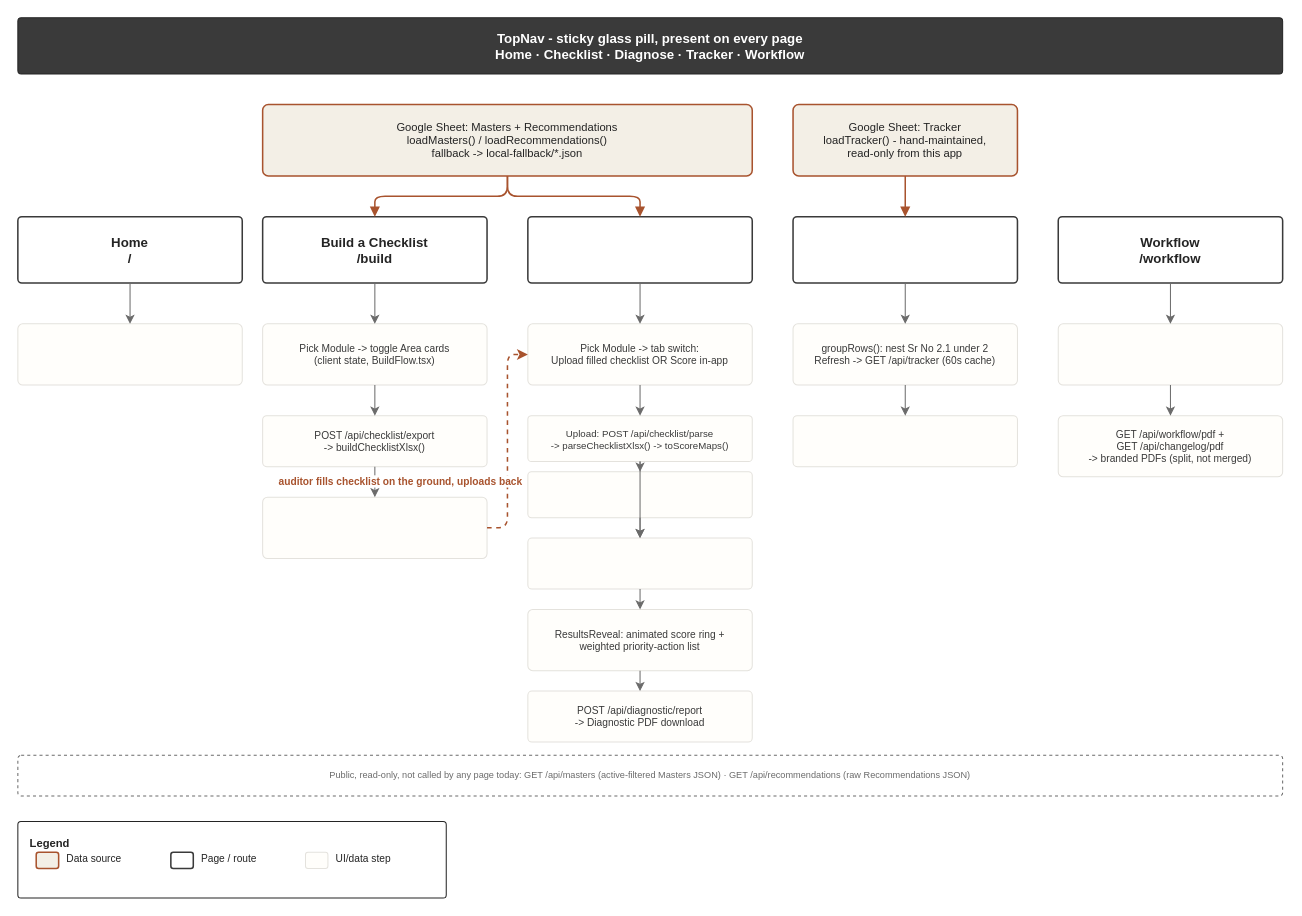
Image size: 1302x916. Some labels were removed from this diagram. The centre of each missing label's shape, as x and y in pixels:
.xlsx checklist download - blank Score / Observation columns: the point at 374,527
computeDiagnostic(scores, observations, recommendations): the point at 639,563
Form: ScoreForm submit -> {scores, observations}: the point at 639,494
Read-only - no write-back; source of truth = the Sheet itself: the point at 904,441
Score & Diagnose /diagnose: the point at 640,249
Stat strip (live counts) + flow steps + sections + changelog (Reveal-animated): the point at 1170,354
Static content only - no data in/out, no loading/ empty/error states: the point at 129,354
Sync Tracker /tracker: the point at 905,249
